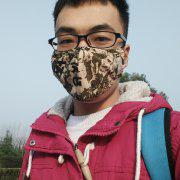OK: (54, 23, 123, 97)
